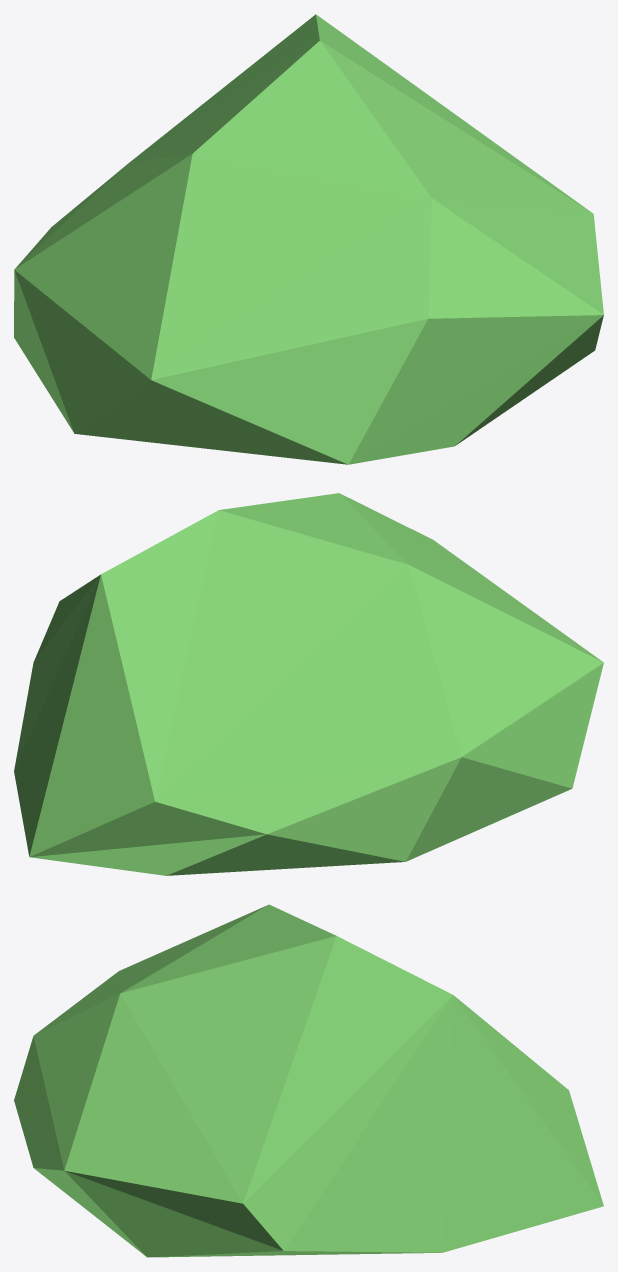
Rendered from rock1.fbx.
3 views of the same model, one above another, from view 1: azimuth 30°, elevation 25°; view 2: azimuth 150°, elevation 25°; view 3: azimuth 270°, elevation 25° (orthographic). The views are drawn at different scales.
Parts seen in each view (by area): view 1: rock 1; view 2: rock 1; view 3: rock 1.
Part boxes in pixels (x1,y1,x2,y2): rock 1: (14,14,603,464); rock 1: (14,493,603,875); rock 1: (14,904,603,1257).
Size of the model in its own units: 431 by 210 by 455.
